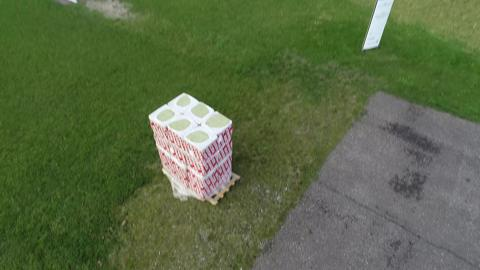RockwoolPallet: (148, 92, 234, 202)
